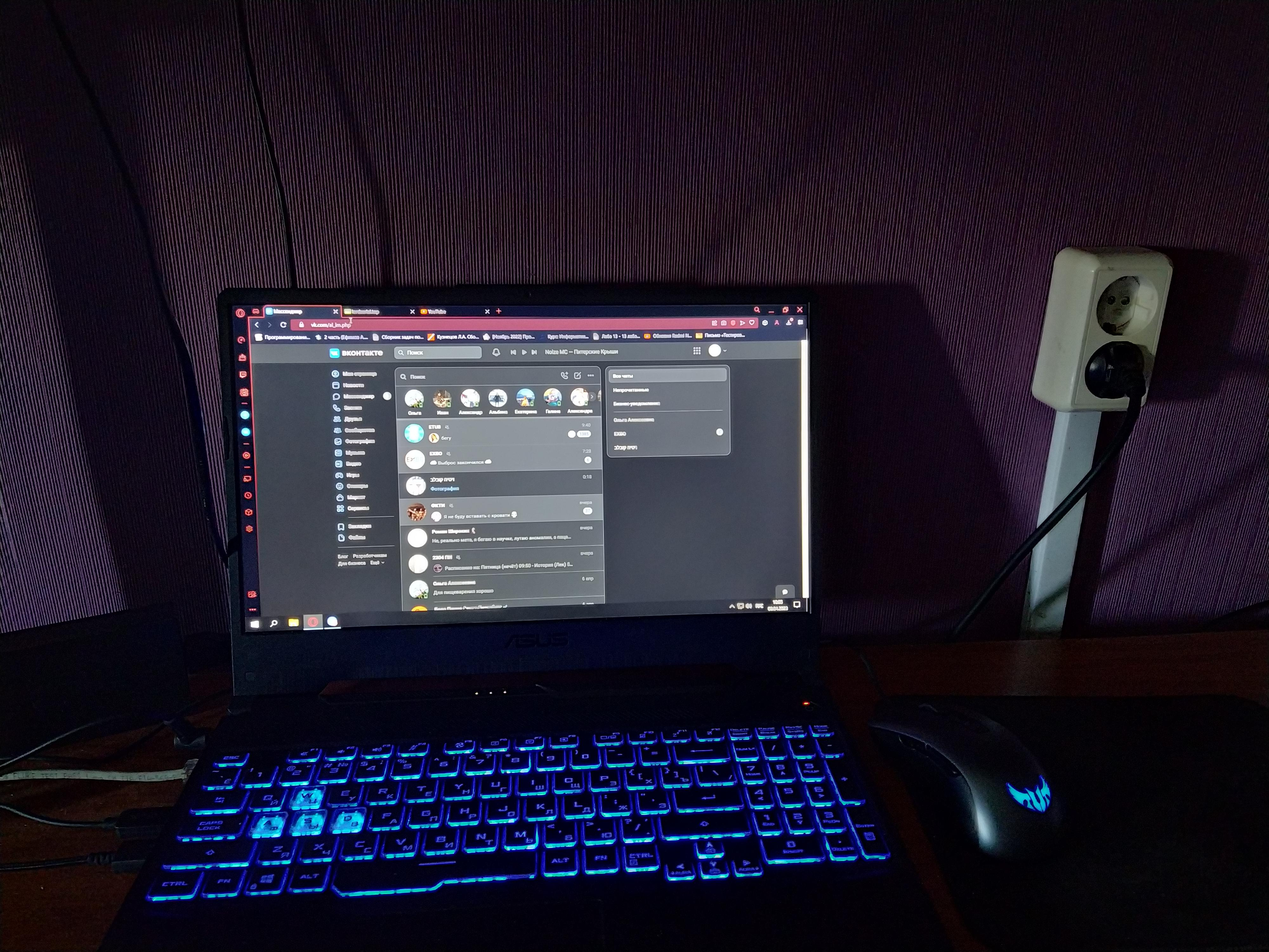monitor: (209, 270, 838, 701)
